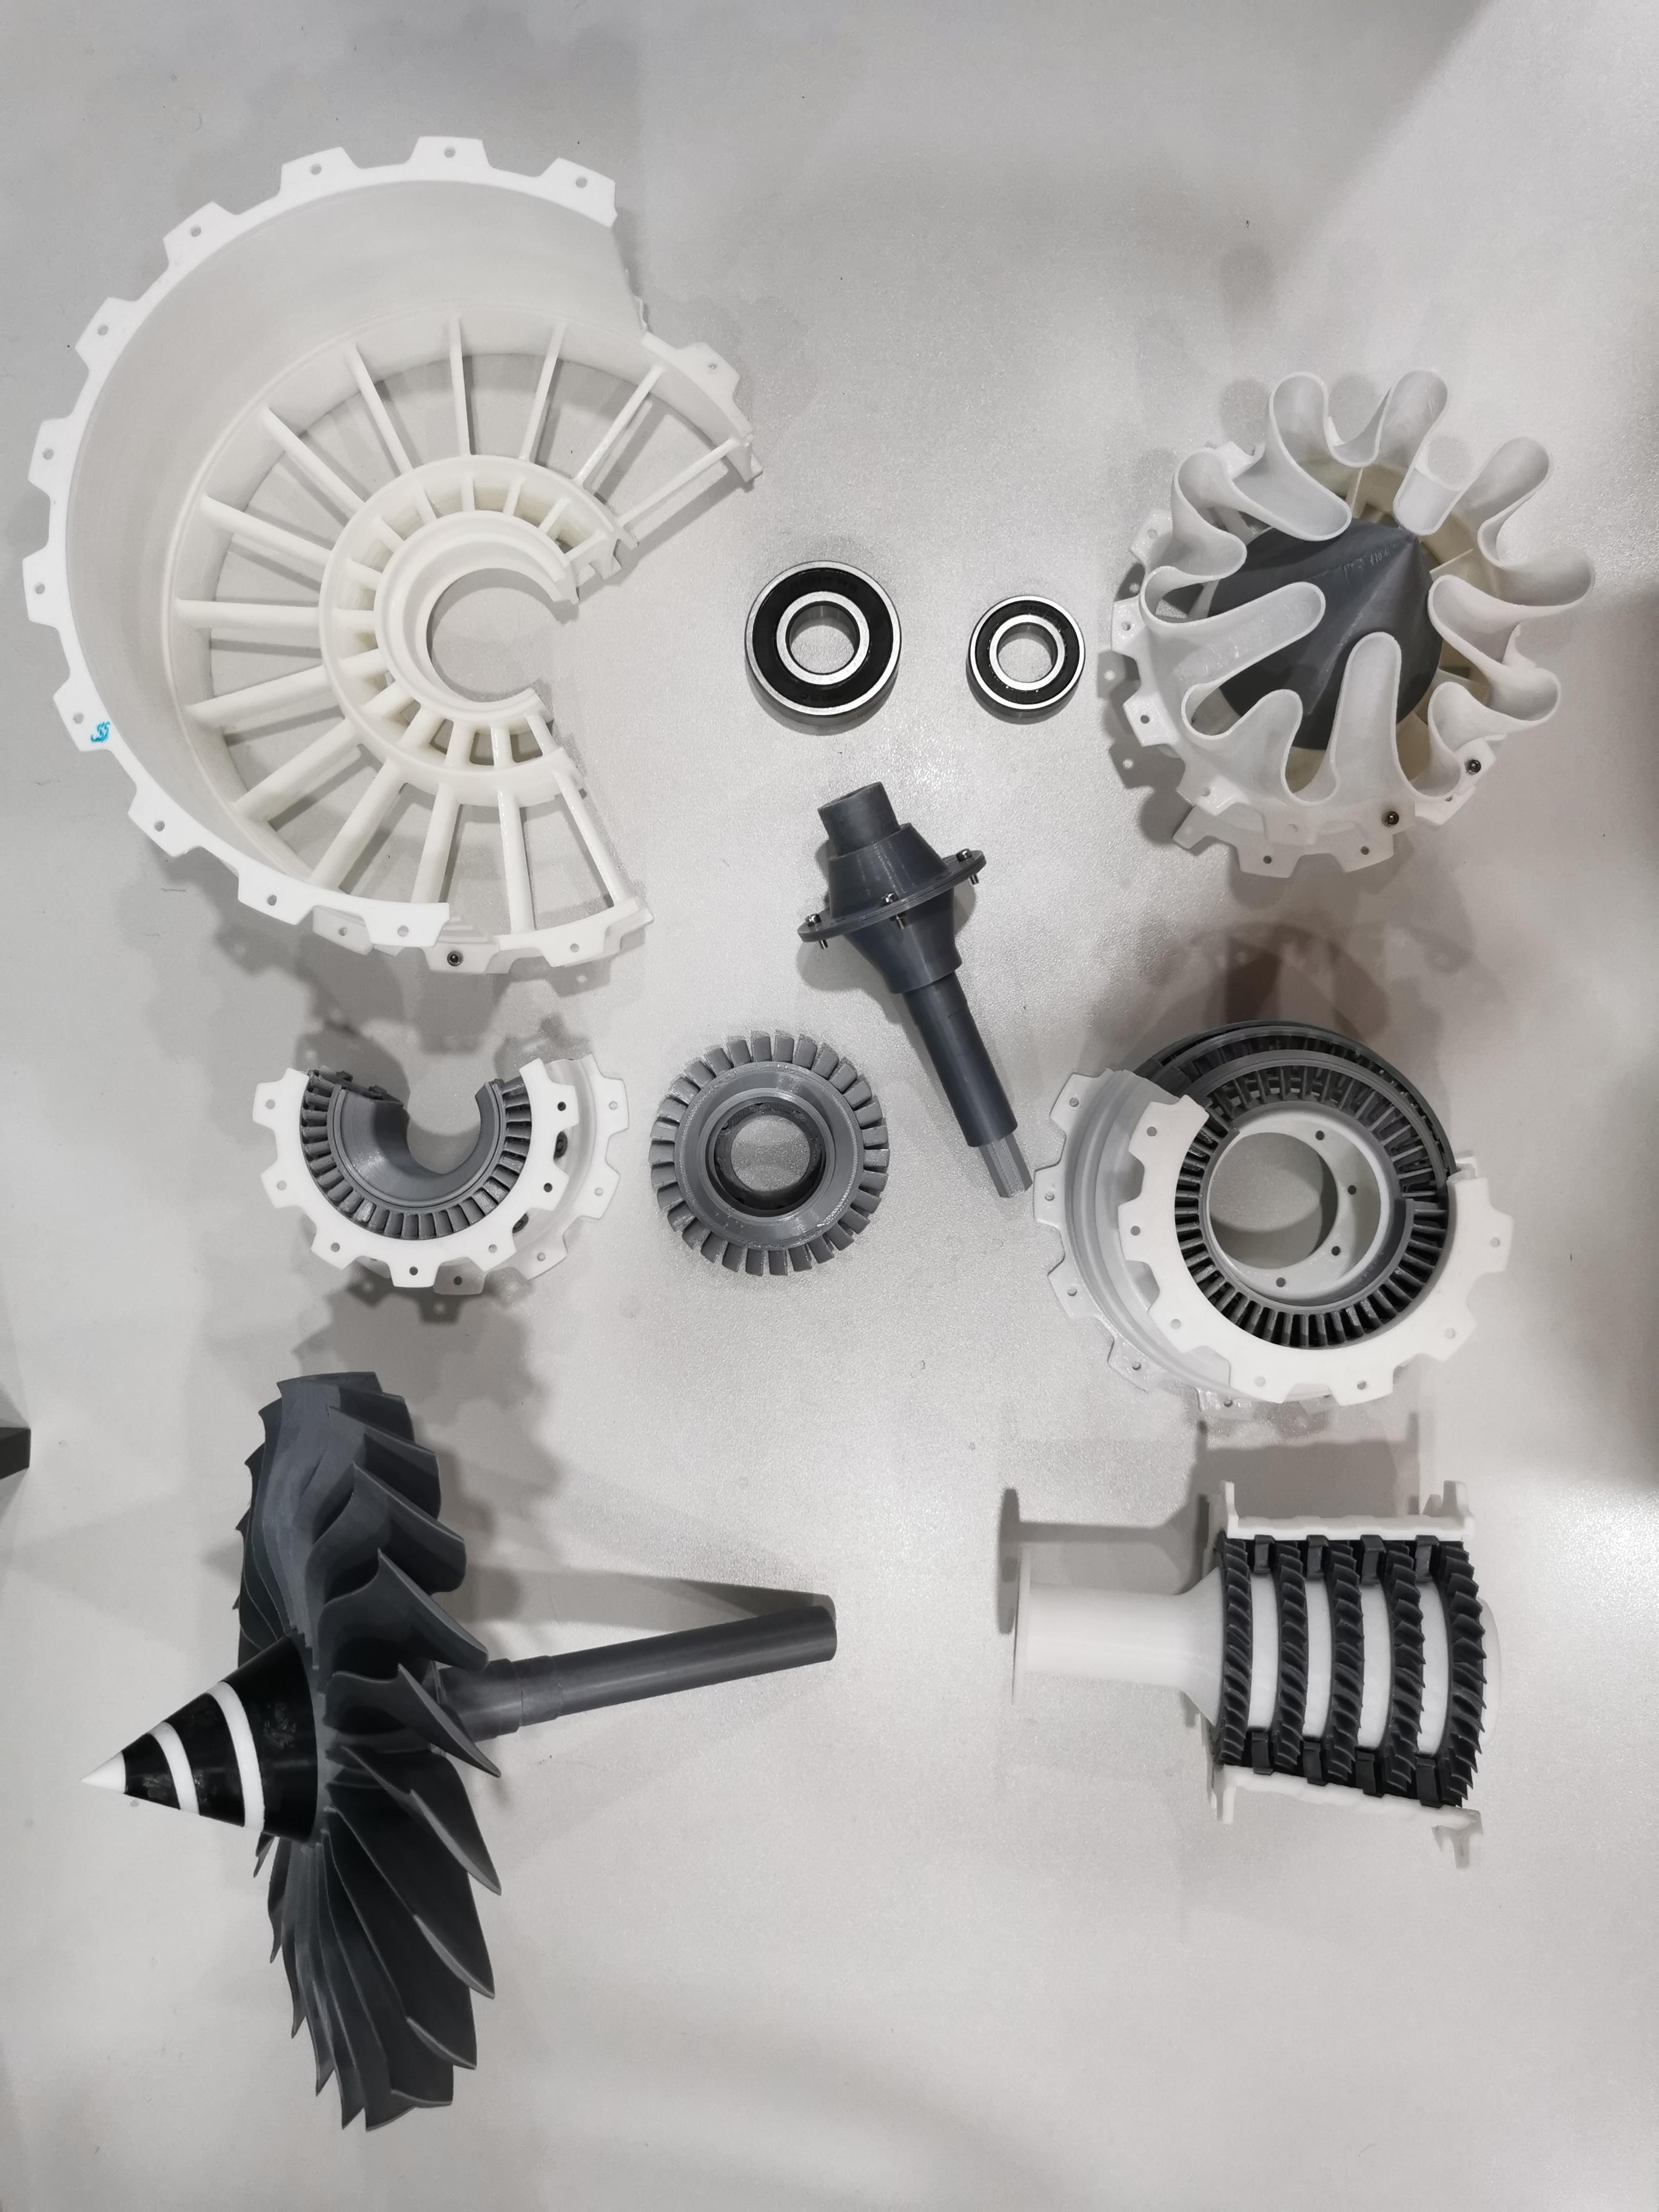Bearing-6003: (958, 577, 1093, 737)
Bearing-6204: (739, 549, 918, 730)
Combustion Section: (202, 1036, 627, 1317)
Fan Casing and Support: (14, 122, 769, 982)
Fan and Low Pressure Shaft: (70, 1364, 852, 2134)
HPT Section: (634, 1019, 896, 1305)
High Pressure Spool: (999, 1467, 1525, 1892)
LPT Section: (1032, 995, 1525, 1440)
Low Pressure Spool: (772, 756, 1068, 1205)
Nozzle Section: (1094, 359, 1608, 885)
